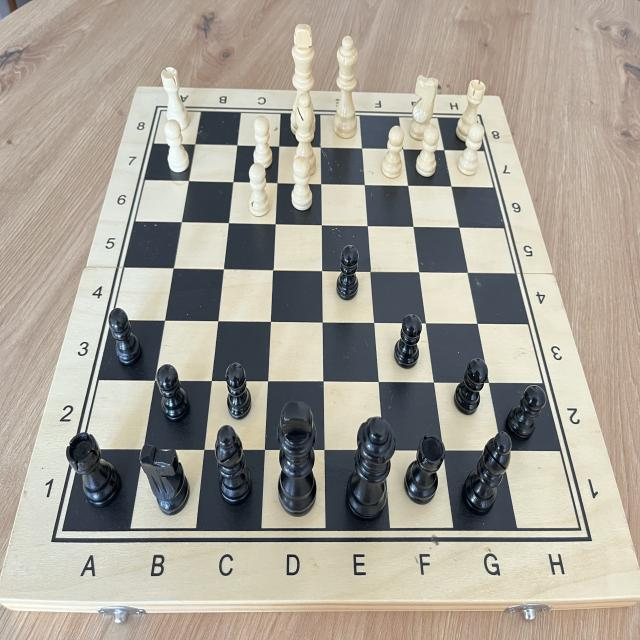black-bishop: (456, 421, 517, 523), (206, 414, 258, 514)
black-king: (268, 392, 326, 519)
black-knight: (135, 432, 196, 518)
black-pawn: (499, 374, 552, 451), (151, 354, 195, 430), (446, 352, 493, 421), (104, 302, 147, 371), (218, 350, 257, 424), (389, 304, 426, 374), (331, 236, 364, 303)
black-queen: (342, 408, 398, 525)
black-rook: (62, 423, 130, 518), (400, 427, 450, 510)
white-bishop: (286, 88, 322, 181)
white-king: (284, 18, 320, 141)
white-knight: (403, 68, 444, 148)
white-pawn: (454, 119, 489, 183), (376, 121, 411, 184), (160, 114, 193, 180), (243, 158, 274, 222), (246, 114, 277, 175), (414, 117, 443, 181), (286, 153, 316, 214)
white-queen: (327, 30, 365, 143)
white-rook: (154, 61, 200, 135), (455, 74, 489, 146)
